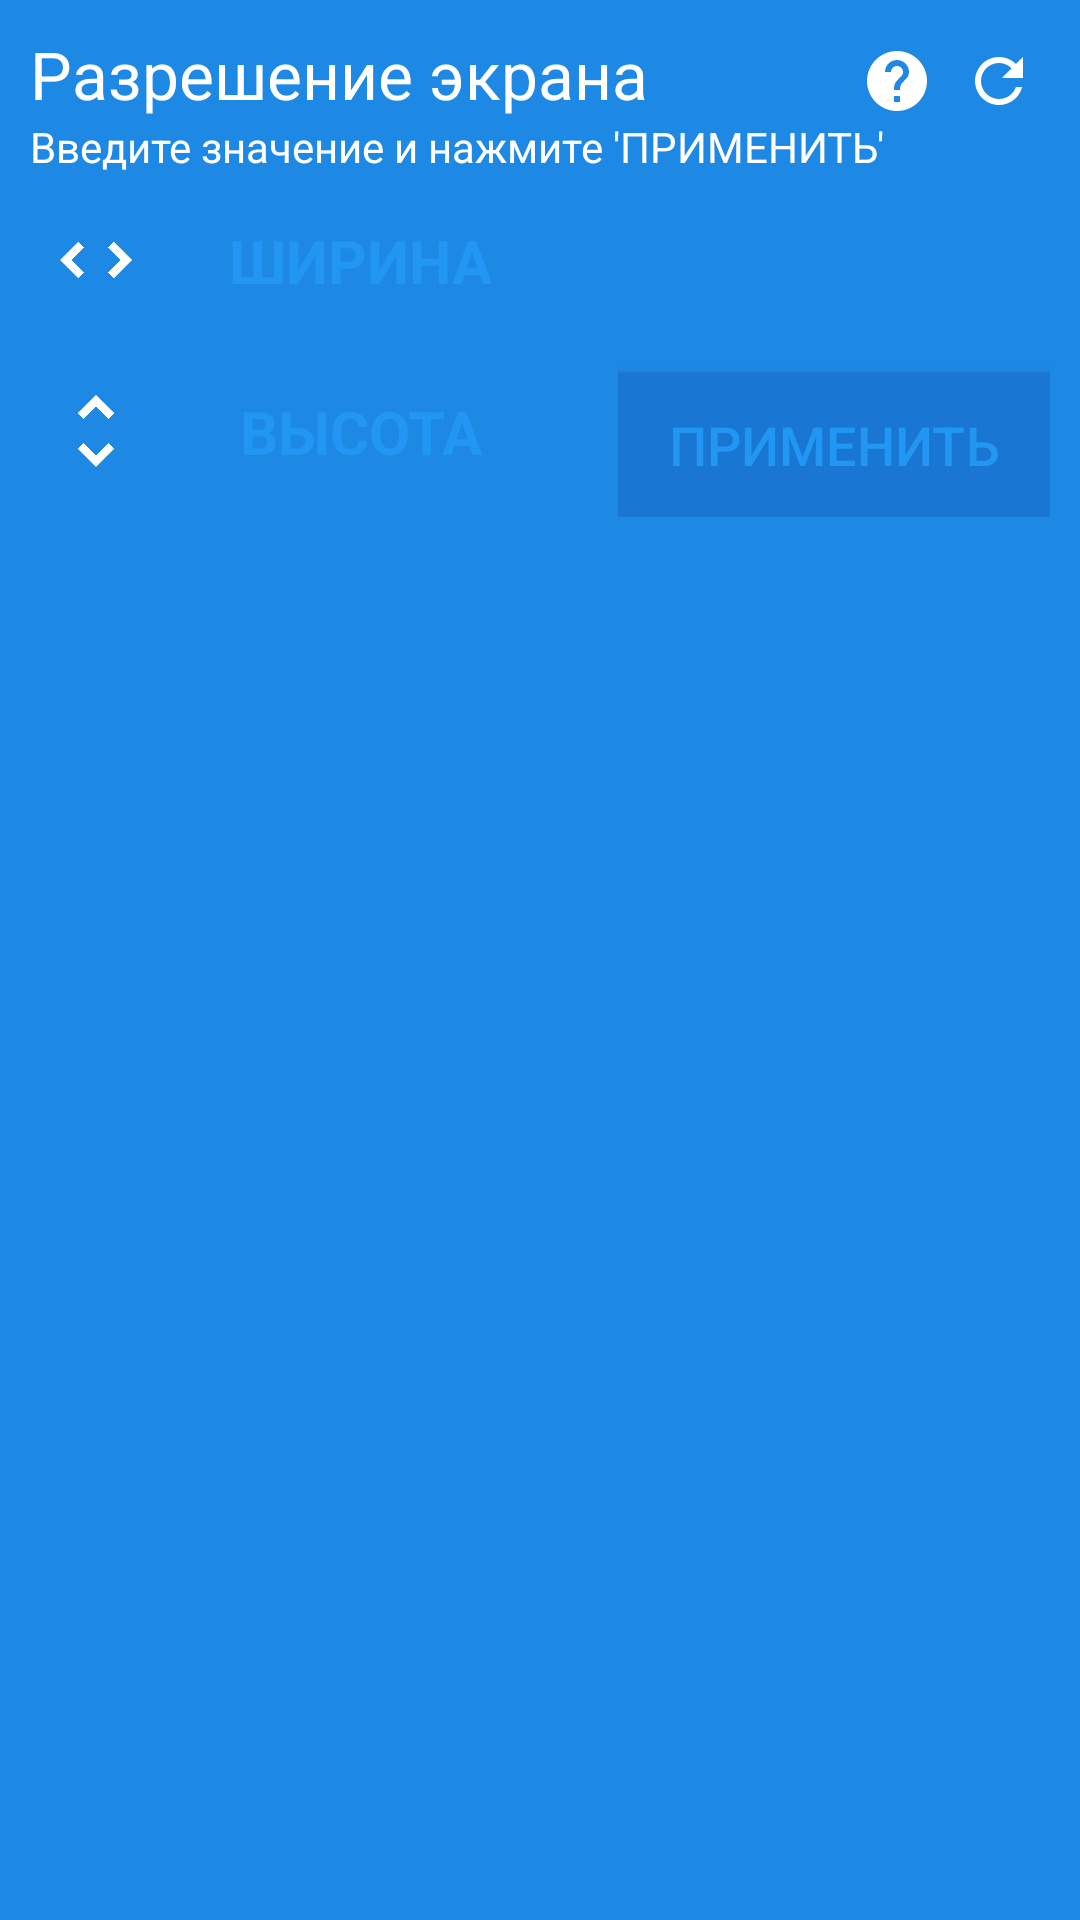

Icons on this 1080px x 1920px Android screen, each with its box as (x1, y1, x2, y2):
help: (867, 51, 927, 111)
refresh: (975, 57, 1023, 105)
